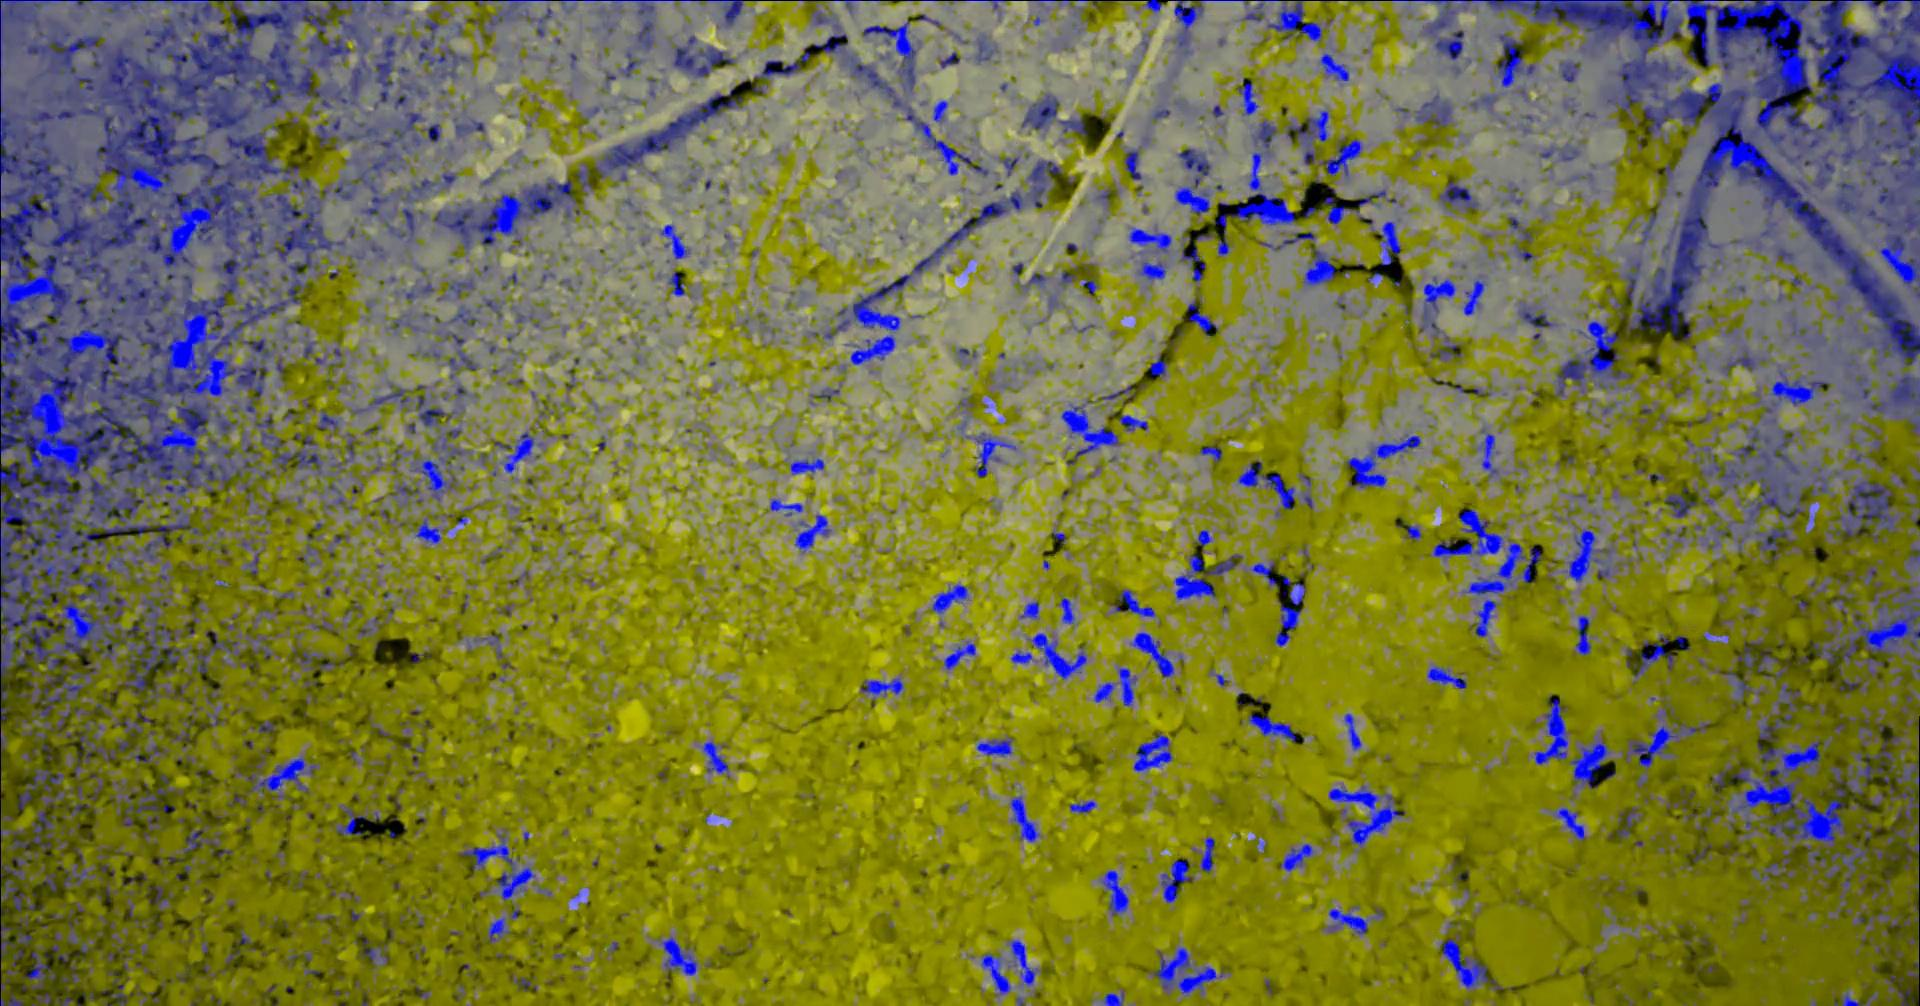ant: (563, 0, 676, 50), (1260, 231, 1338, 286), (1173, 0, 1250, 55), (863, 19, 917, 91), (419, 9, 471, 77), (151, 824, 235, 865), (1766, 368, 1832, 413), (1239, 460, 1297, 509), (1029, 633, 1088, 680), (469, 0, 552, 30), (674, 36, 737, 76), (1535, 694, 1570, 763), (1269, 0, 1324, 42), (1568, 528, 1613, 580), (1276, 573, 1307, 647), (1288, 111, 1330, 164), (1496, 32, 1537, 86), (1421, 276, 1457, 337), (1326, 189, 1387, 224), (1628, 634, 1676, 677), (1571, 737, 1611, 788), (411, 457, 458, 500), (196, 629, 243, 672), (1738, 640, 1789, 680), (1131, 633, 1175, 677), (977, 432, 1017, 476), (1747, 845, 1798, 879), (495, 431, 536, 473), (1723, 669, 1768, 708), (1029, 160, 1064, 207), (108, 544, 147, 586), (681, 0, 745, 25), (1321, 138, 1364, 177), (1135, 730, 1175, 771), (446, 332, 479, 379), (1162, 857, 1195, 903), (1756, 525, 1796, 563), (23, 946, 57, 989), (1181, 227, 1208, 282), (662, 936, 698, 976), (417, 395, 458, 429), (796, 514, 833, 553), (1011, 795, 1041, 841), (1010, 939, 1040, 984), (1, 948, 25, 1005), (1826, 592, 1858, 635), (1023, 94, 1062, 130), (65, 847, 98, 888), (1250, 714, 1299, 741), (110, 921, 137, 970), (982, 951, 1012, 995), (862, 677, 905, 706), (1665, 493, 1717, 517), (337, 807, 381, 835), (1416, 94, 1453, 127), (433, 428, 466, 465), (1441, 180, 1481, 211), (1189, 296, 1219, 335), (1905, 903, 1920, 982), (1723, 347, 1768, 373), (1103, 870, 1130, 915), (392, 178, 439, 202), (1857, 904, 1903, 929), (1, 879, 37, 911), (933, 583, 970, 614), (1115, 589, 1157, 616), (1554, 807, 1587, 840), (370, 384, 415, 406), (1130, 227, 1173, 251), (1470, 600, 1498, 636), (703, 741, 731, 777), (358, 937, 391, 968), (662, 224, 691, 258), (1330, 908, 1369, 934), (1641, 201, 1662, 245), (395, 80, 429, 108), (1281, 843, 1316, 871), (226, 929, 254, 963), (945, 640, 977, 669), (171, 713, 199, 746), (1382, 221, 1402, 265), (1482, 427, 1500, 478), (1429, 666, 1468, 688), (123, 744, 170, 763), (521, 8, 552, 36), (1618, 807, 1644, 840), (1520, 304, 1558, 326), (1886, 976, 1915, 1005), (417, 518, 450, 544), (1238, 77, 1260, 116), (1321, 52, 1350, 80), (1625, 258, 1643, 304), (1465, 279, 1488, 315), (17, 716, 48, 741), (69, 918, 91, 951), (978, 735, 1015, 756), (1244, 0, 1279, 22), (1431, 337, 1463, 359), (295, 649, 330, 669), (330, 481, 356, 509), (475, 633, 504, 657), (1542, 144, 1581, 161), (1120, 667, 1138, 706), (109, 970, 130, 1005), (149, 885, 175, 911), (1835, 989, 1879, 1005), (248, 633, 272, 661), (451, 305, 481, 326), (53, 931, 75, 962), (1345, 713, 1363, 749), (1509, 216, 1533, 243), (1848, 372, 1872, 399), (1577, 614, 1592, 655), (1858, 716, 1879, 746), (1252, 561, 1277, 586), (1858, 815, 1883, 840), (1689, 837, 1713, 862), (1102, 384, 1137, 401), (455, 117, 486, 136), (621, 50, 643, 77), (408, 281, 436, 302), (1713, 765, 1733, 794), (1125, 146, 1143, 179), (317, 409, 342, 433), (1, 925, 17, 963), (1060, 116, 1088, 136), (116, 716, 143, 737), (1139, 260, 1168, 279), (489, 917, 510, 942), (771, 498, 804, 514), (33, 992, 75, 1005), (1203, 836, 1217, 873), (977, 36, 996, 62), (450, 278, 476, 297), (1661, 163, 1676, 196), (792, 459, 825, 474), (1688, 805, 1721, 821), (1561, 61, 1582, 83), (18, 915, 33, 945), (1121, 414, 1149, 431), (513, 973, 538, 991), (578, 165, 594, 192), (1201, 442, 1223, 462), (1095, 682, 1116, 702), (480, 298, 503, 318), (63, 959, 81, 983), (1470, 94, 1498, 109), (1149, 356, 1170, 376), (811, 387, 841, 401), (390, 483, 422, 495), (669, 271, 686, 295), (312, 619, 340, 633), (1060, 597, 1076, 622), (1898, 691, 1915, 714), (347, 432, 361, 459), (1196, 528, 1211, 553), (1002, 156, 1020, 177), (392, 318, 420, 330), (1070, 800, 1098, 813), (813, 9, 836, 24), (1517, 243, 1537, 260), (1021, 601, 1040, 619), (38, 873, 57, 890), (253, 719, 277, 733), (941, 51, 961, 67), (124, 890, 136, 920), (1807, 330, 1829, 345), (1103, 989, 1125, 1005), (1777, 245, 1796, 262), (1404, 523, 1423, 540), (207, 683, 223, 702), (1657, 702, 1677, 718), (1907, 713, 1920, 737), (935, 100, 949, 122), (230, 791, 251, 805), (1062, 269, 1078, 287), (1027, 272, 1048, 286), (1667, 799, 1688, 813), (309, 533, 321, 555), (248, 553, 260, 574), (277, 356, 287, 381), (1012, 650, 1032, 663), (371, 241, 386, 258), (244, 442, 262, 456), (321, 659, 345, 669), (208, 713, 227, 725), (443, 171, 458, 187), (1793, 321, 1808, 337), (1845, 352, 1860, 367), (1909, 546, 1920, 567), (1154, 108, 1172, 121), (305, 340, 317, 358), (1084, 278, 1098, 293), (1145, 0, 1163, 11), (1911, 657, 1920, 680), (1597, 565, 1611, 579), (411, 652, 430, 662), (1, 727, 9, 751), (133, 918, 154, 927), (960, 348, 978, 357)
